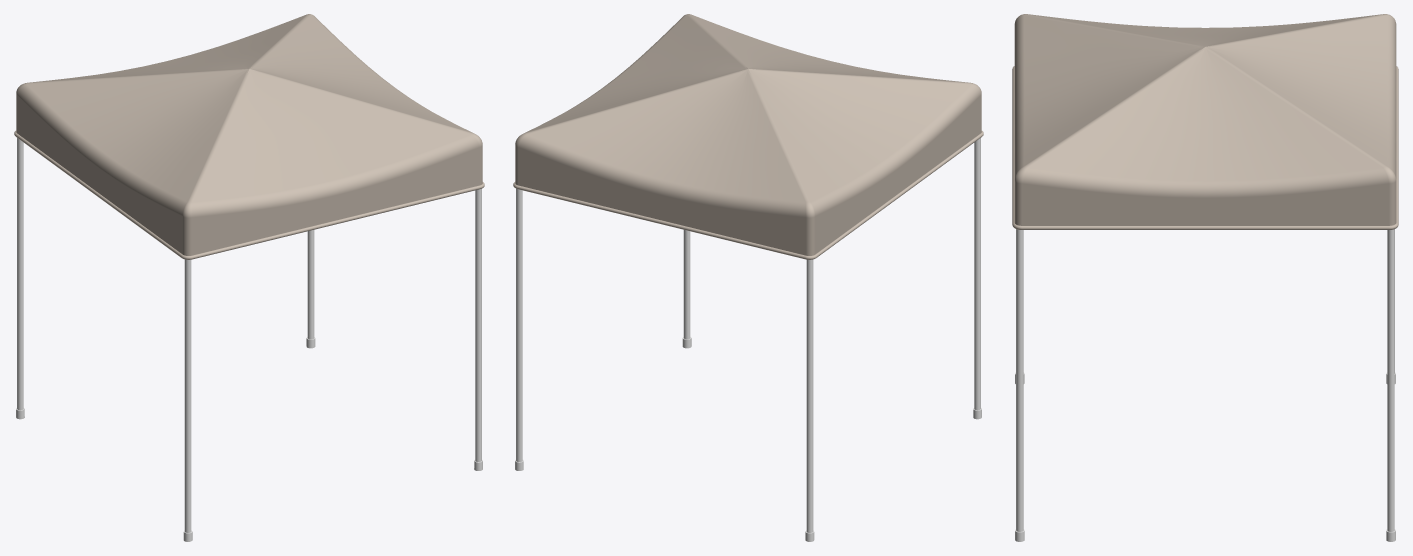
The model's file is テント.fbx.
3 views of the same model, side by side, from view 1: azimuth 30°, elevation 25°; view 2: azimuth 150°, elevation 25°; view 3: azimuth 270°, elevation 25° (orthographic). The views are drawn at different scales.
Parts seen in each view (by area): view 1: Body; view 2: Body; view 3: Body.
Boxes of the visible parts, x1,y1,x2,y2 form: Body: (14,14,484,541); Body: (513,14,983,541); Body: (1012,14,1398,541).
Size of the model in its own units: 260 by 308 by 260.
